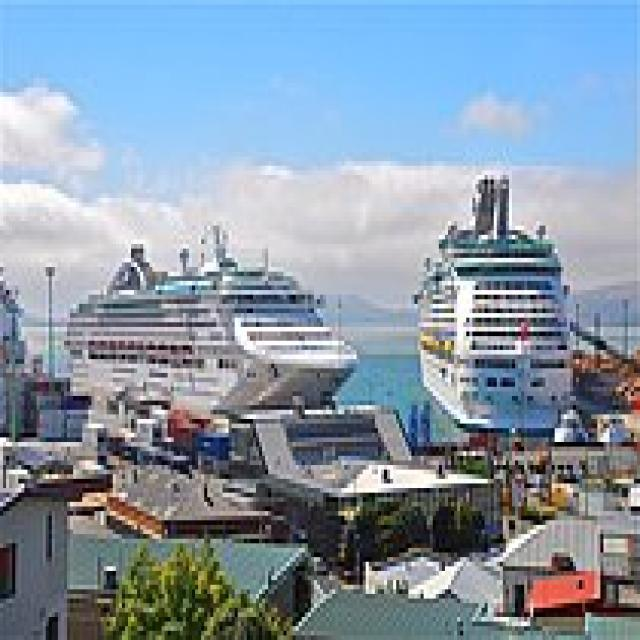Ship: (56, 208, 364, 425), (404, 158, 593, 439)
